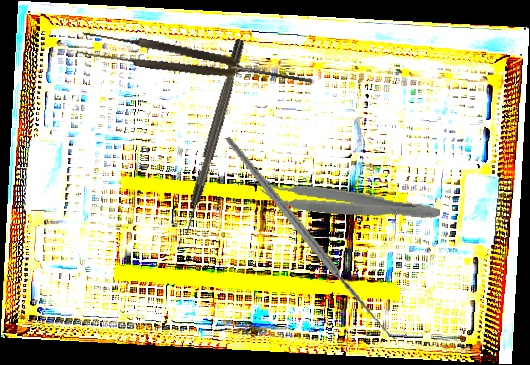Hook Surgical: (223, 114, 408, 361), (180, 38, 247, 236)
Tissue Forceps: (77, 28, 317, 97), (257, 175, 443, 226)
